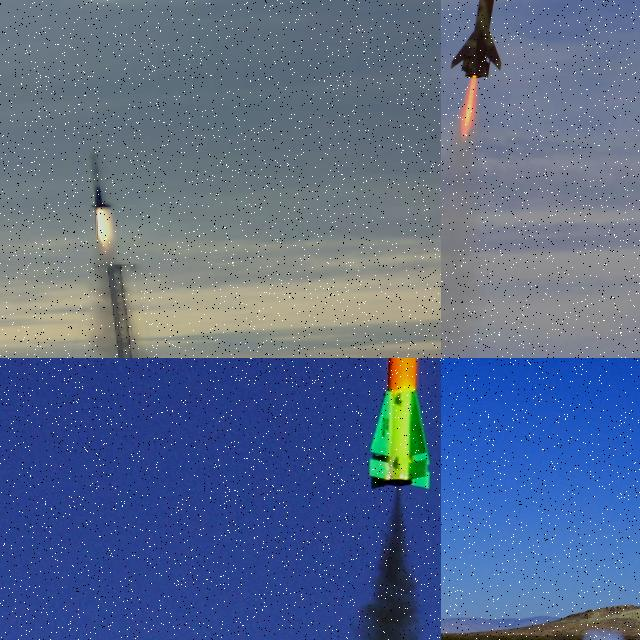Rocket: (368, 358, 433, 491), (449, 0, 505, 82), (89, 152, 111, 208)
